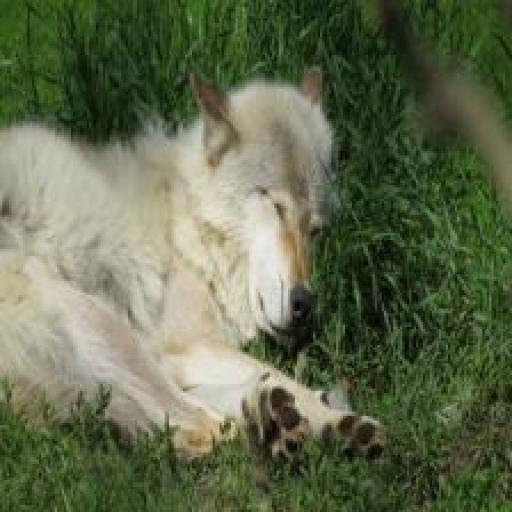wolf: (0, 66, 389, 470)
